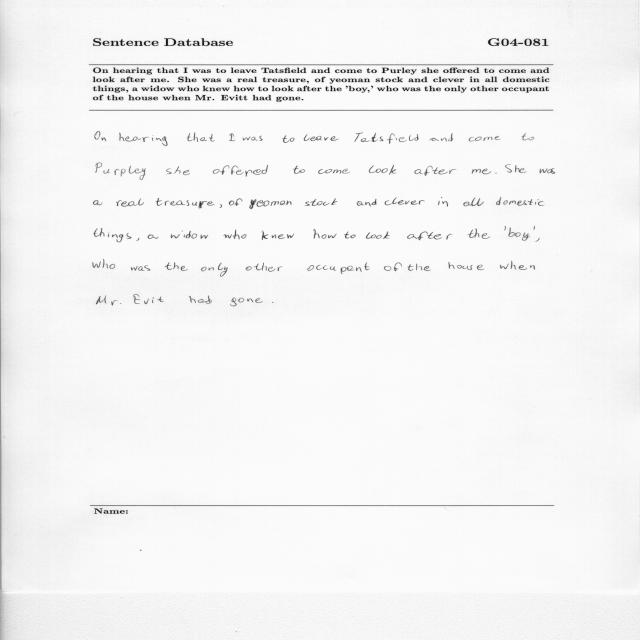word: (96, 163, 146, 180), (354, 132, 419, 144), (308, 262, 370, 274), (119, 133, 168, 146), (213, 165, 268, 176), (155, 198, 215, 208), (94, 228, 131, 242), (496, 197, 544, 206), (415, 166, 457, 176), (250, 199, 292, 209), (407, 232, 452, 241), (201, 263, 228, 277), (246, 263, 282, 272), (385, 198, 425, 206), (500, 261, 535, 270), (133, 295, 164, 305), (508, 227, 530, 241), (171, 231, 208, 239), (262, 231, 294, 240), (448, 262, 484, 270), (187, 132, 215, 142), (369, 165, 396, 175), (305, 198, 338, 206), (467, 228, 490, 239), (97, 296, 122, 306), (313, 229, 337, 239), (304, 134, 338, 141), (224, 230, 247, 240), (116, 199, 144, 207), (93, 259, 115, 269), (166, 166, 190, 175), (430, 133, 453, 142), (165, 262, 188, 271), (189, 295, 212, 304), (366, 231, 390, 239), (505, 164, 526, 173), (231, 298, 254, 306), (468, 136, 501, 141), (408, 264, 431, 271), (464, 198, 484, 206), (384, 263, 402, 271), (357, 199, 376, 206), (472, 169, 491, 175), (131, 265, 150, 271), (95, 131, 106, 141), (293, 165, 305, 174), (229, 198, 242, 206), (243, 136, 263, 141), (438, 197, 448, 207), (283, 135, 295, 143), (522, 133, 534, 141), (540, 168, 555, 174), (333, 169, 350, 174), (344, 232, 356, 239), (318, 169, 332, 174), (148, 234, 158, 239), (229, 133, 235, 141), (94, 200, 103, 205), (256, 298, 263, 303), (536, 238, 540, 242), (219, 204, 222, 208), (504, 226, 506, 231), (137, 238, 140, 241), (534, 226, 535, 230), (495, 173, 497, 174)
